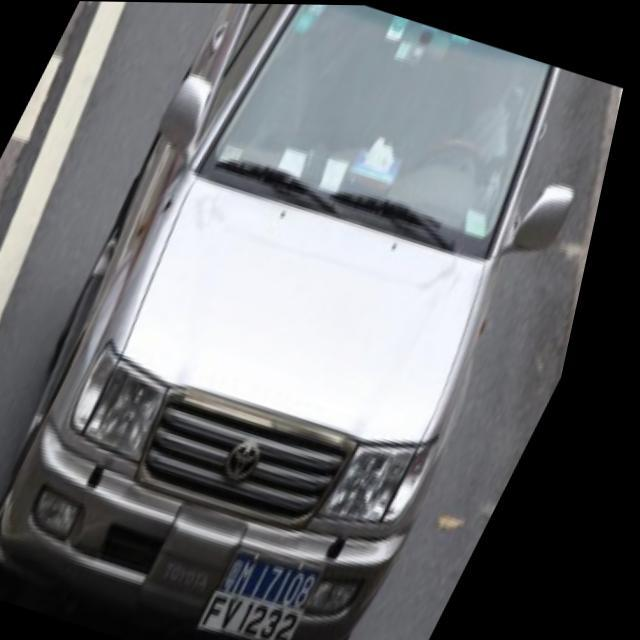license_plate: (226, 542, 354, 640)
